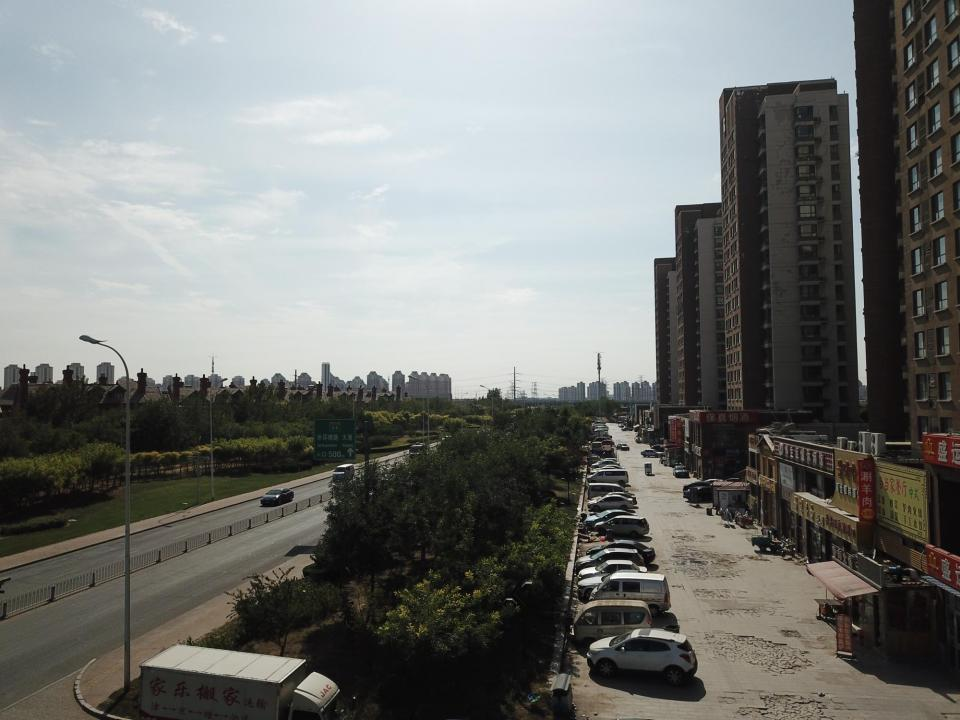car: (586, 628, 698, 684), (577, 570, 648, 598), (586, 540, 656, 564), (576, 548, 644, 570), (577, 560, 647, 581), (595, 516, 649, 537), (584, 510, 636, 528), (592, 419, 616, 454), (588, 494, 634, 510), (260, 488, 296, 504), (590, 492, 638, 504), (683, 487, 713, 500), (682, 481, 711, 491), (590, 466, 618, 474), (672, 465, 690, 477), (592, 461, 619, 468), (641, 449, 664, 457), (592, 465, 625, 470), (595, 458, 616, 463), (616, 444, 630, 450), (622, 426, 634, 430), (618, 423, 624, 427)
truck: (138, 643, 355, 720), (408, 442, 440, 462)
van: (570, 600, 652, 646), (589, 572, 671, 618), (588, 483, 635, 500), (586, 469, 628, 485), (332, 464, 354, 481)
